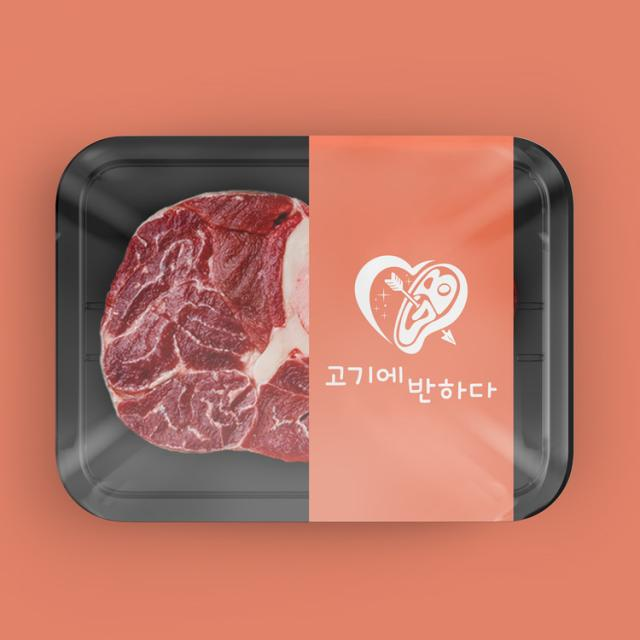pork: (35, 110, 588, 545)
